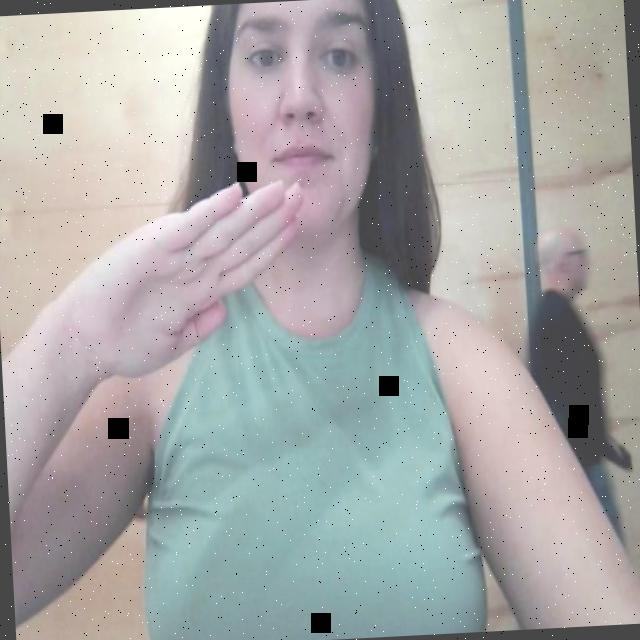Paper: (20, 147, 342, 448)
